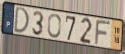2: (80, 17, 94, 46)
3: (32, 11, 45, 37)
7: (65, 15, 77, 42)
D: (13, 6, 31, 35)
F: (94, 19, 112, 46)
O: (47, 14, 62, 40)
